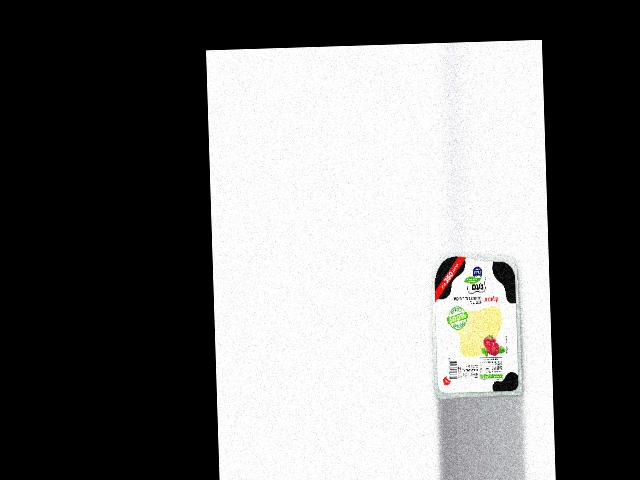cheese: (430, 249, 522, 398)
